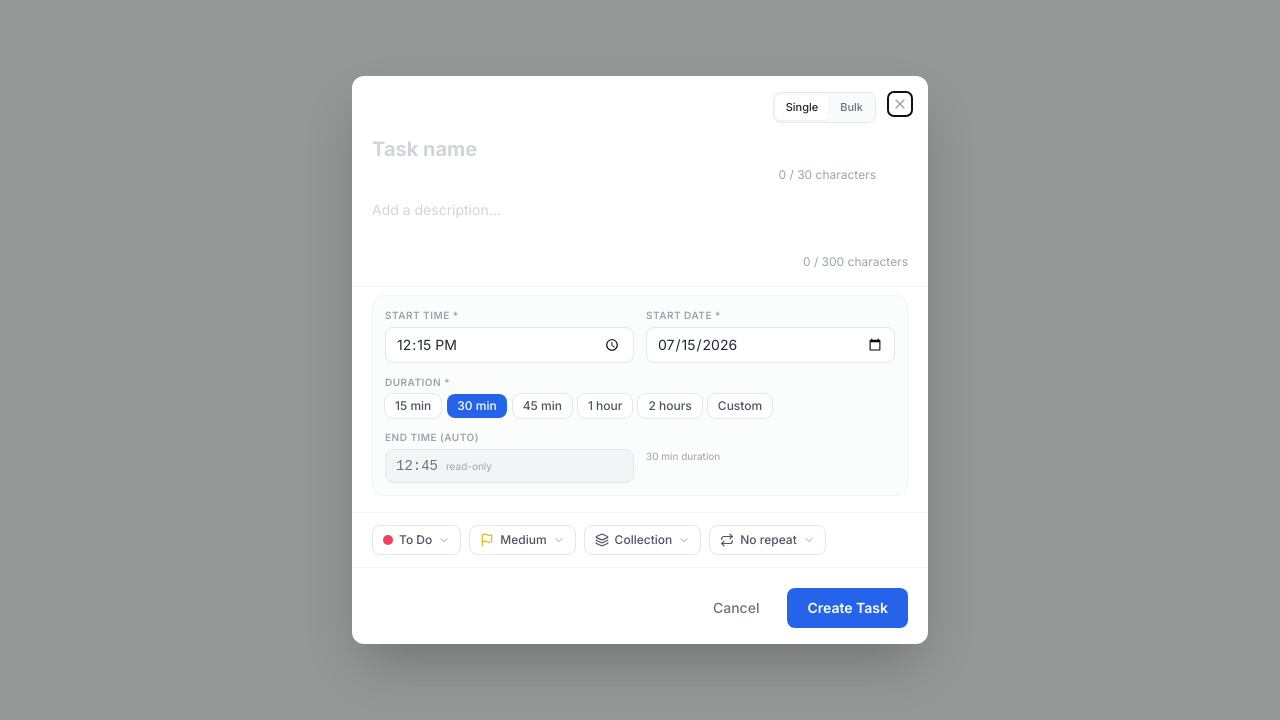
it: TaskForm › shows an empty collections menu message
Step 1. Click the button "Collection" → (642, 540), box [584,525,701,555]
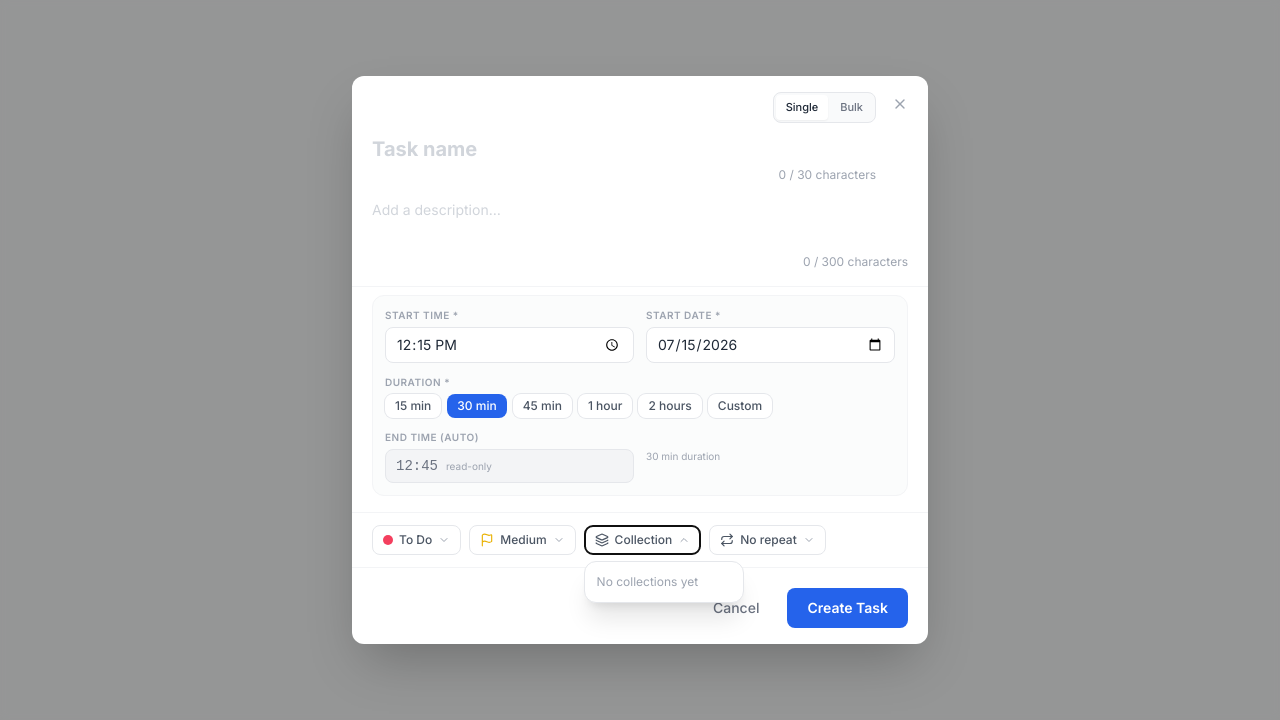
Now the text "No collections yet" is shown, box [597,574,698,589]
